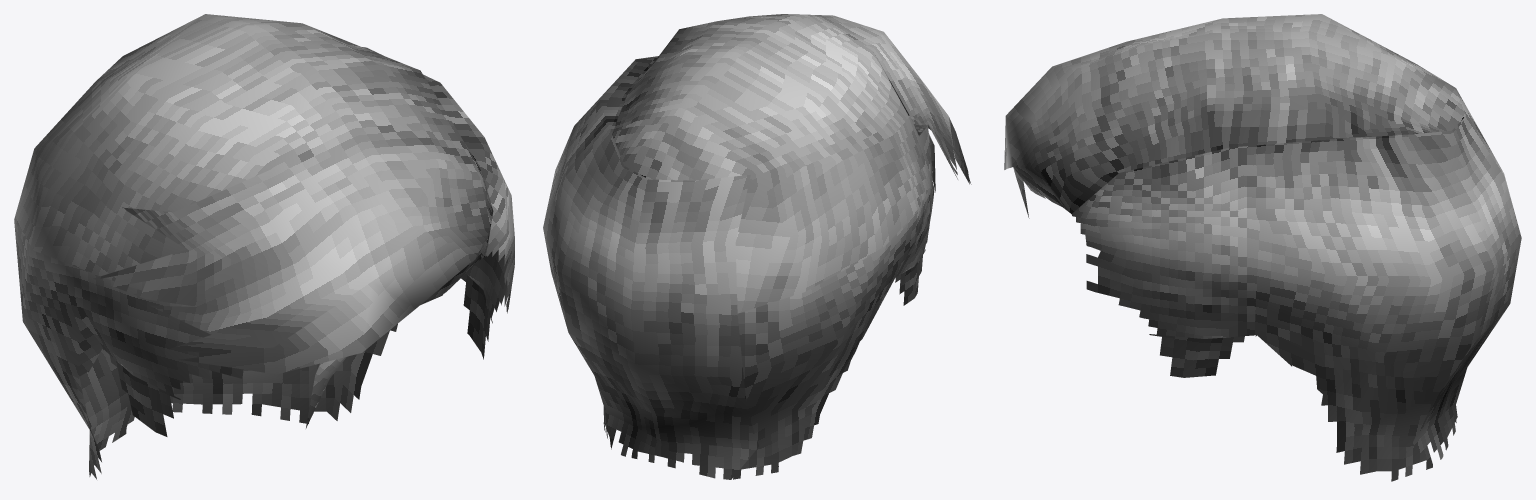
The model's file is m_body003.glb.
3 views of the same model, side by side, from view 1: azimuth 30°, elevation 25°; view 2: azimuth 150°, elevation 25°; view 3: azimuth 270°, elevation 25° (orthographic). The views are drawn at different scales.
Bounding box in the file's own units: 18.36 × 19.26 × 22.1.
Materials: 1 (1 with a texture image).
